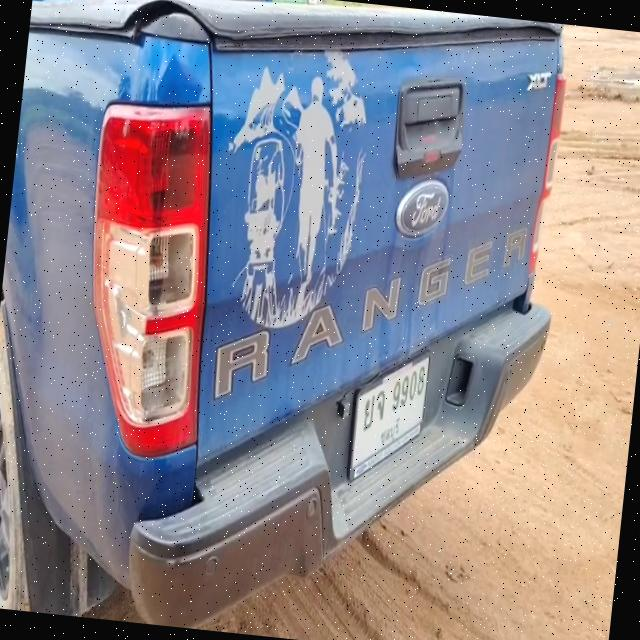Digit: (391, 363, 426, 415)
Licenseplate: (346, 341, 433, 489)
Provincename: (381, 414, 401, 449)
Thaichar: (361, 387, 386, 432)
